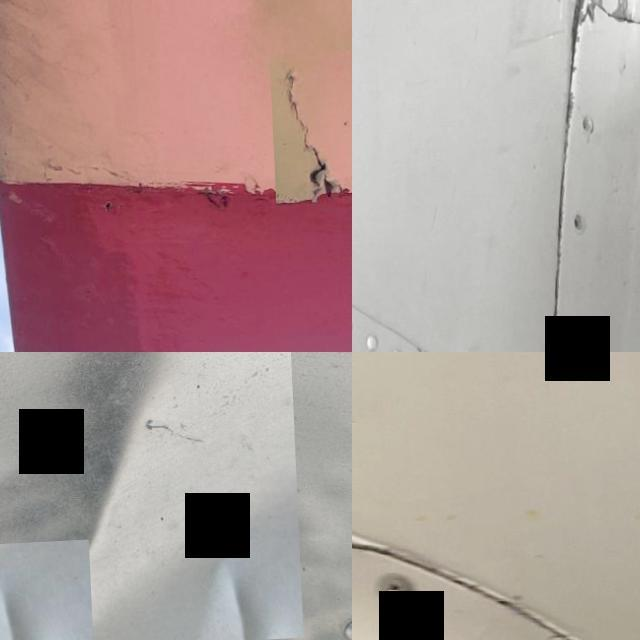Crack: (395, 557, 640, 640), (267, 54, 352, 210), (553, 0, 615, 70), (352, 505, 388, 572)
Dent: (0, 352, 297, 640), (0, 542, 89, 640)
Missing_Fastener: (568, 217, 582, 236)
